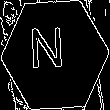N_S: (36, 29, 74, 81)
